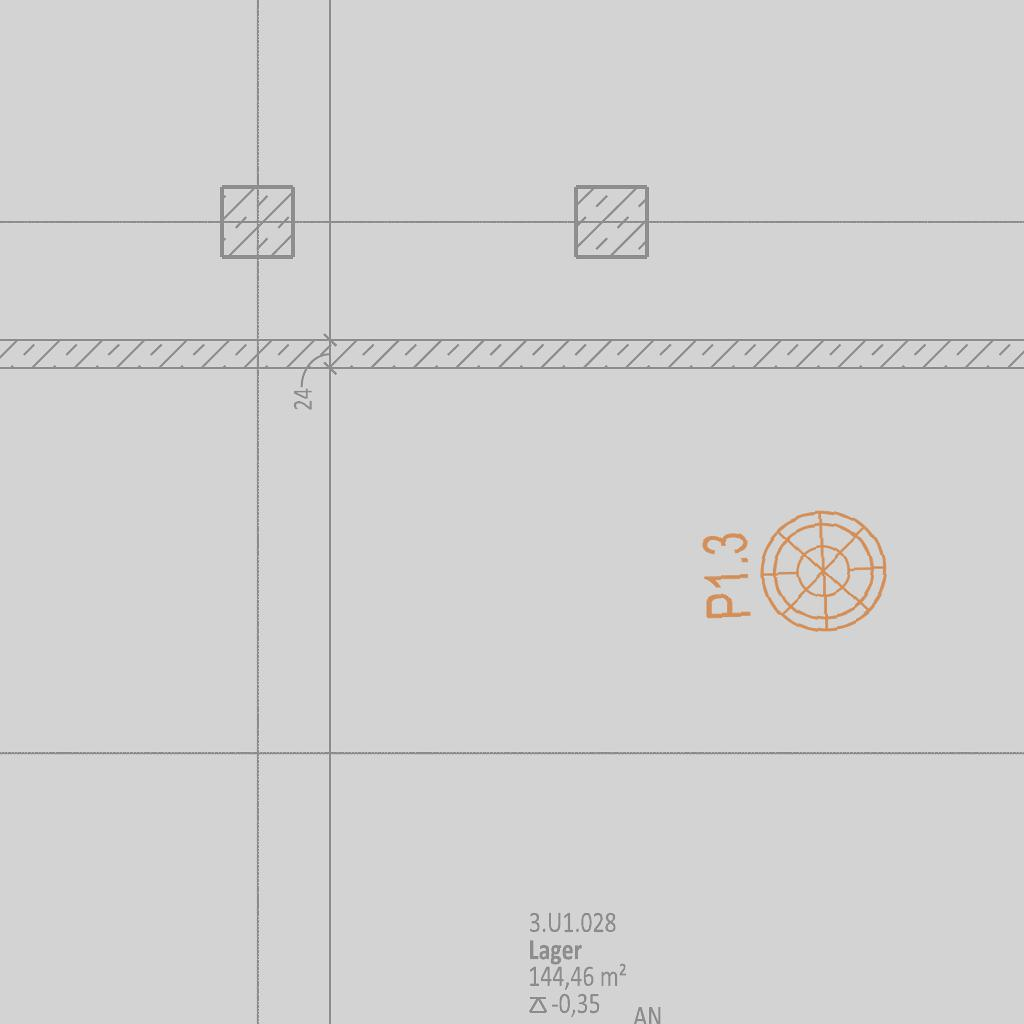Aufbaurundleuchte_LED_Treppenhaus: (681, 492, 894, 643)
